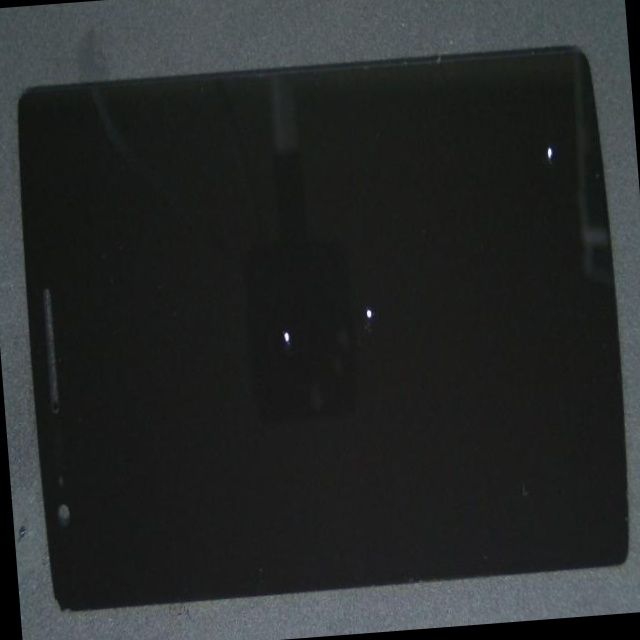stain: (140, 207, 556, 566), (138, 131, 434, 474), (291, 43, 640, 233)
